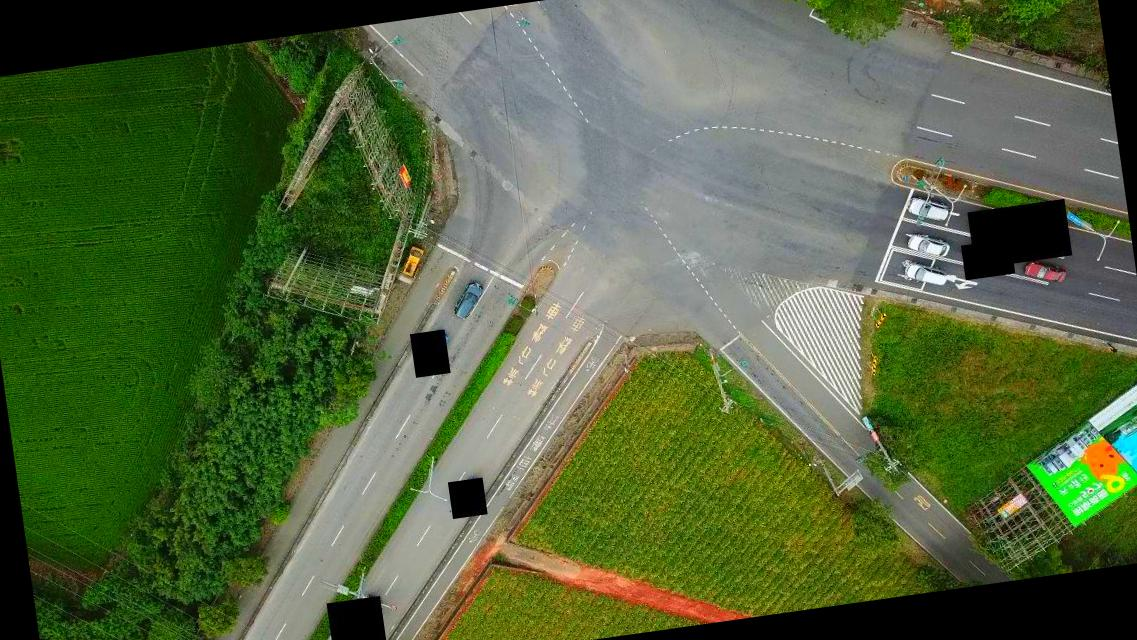vehicle: (450, 279, 486, 323), (902, 258, 948, 292), (904, 193, 950, 225), (907, 228, 950, 262), (1022, 259, 1066, 288), (400, 244, 426, 280)
